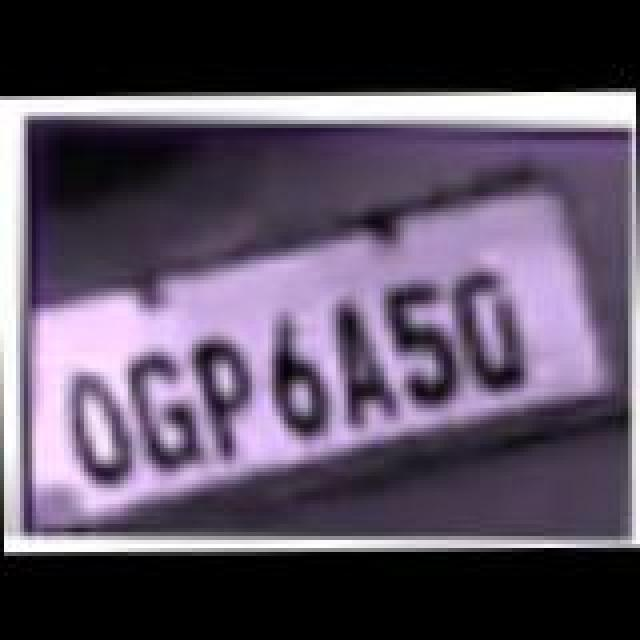5: (384, 280, 464, 408)
6: (264, 312, 336, 444)
A: (332, 300, 404, 432)
D: (452, 266, 532, 394)
G: (126, 348, 206, 472)
O: (66, 372, 138, 492)
P: (194, 340, 266, 468)
